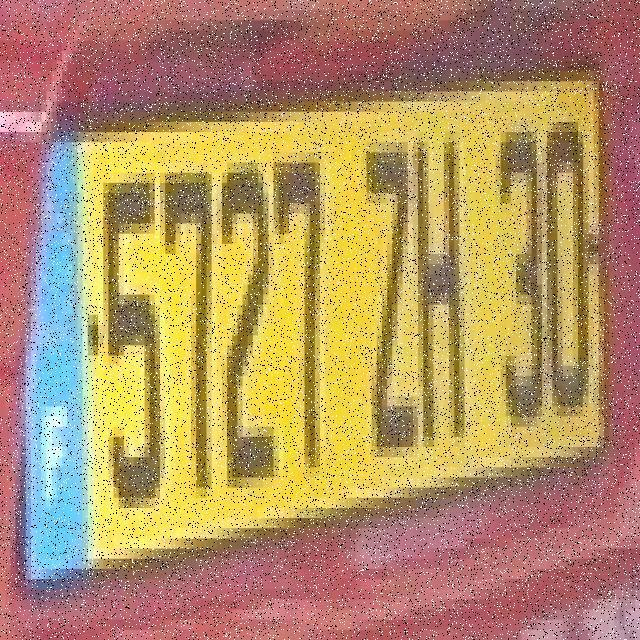LicensePlate: (3, 59, 616, 594)
